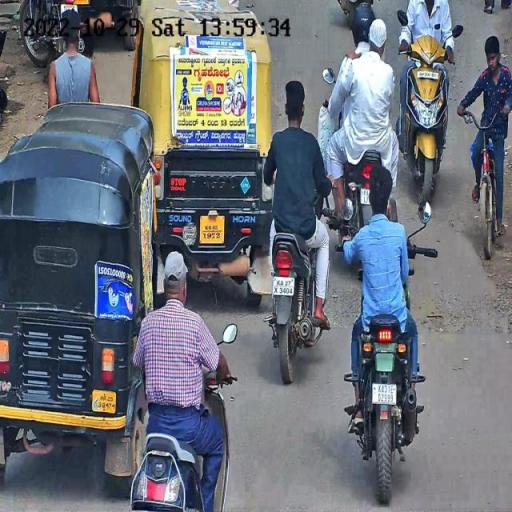using mobile: (386, 190, 397, 222)
